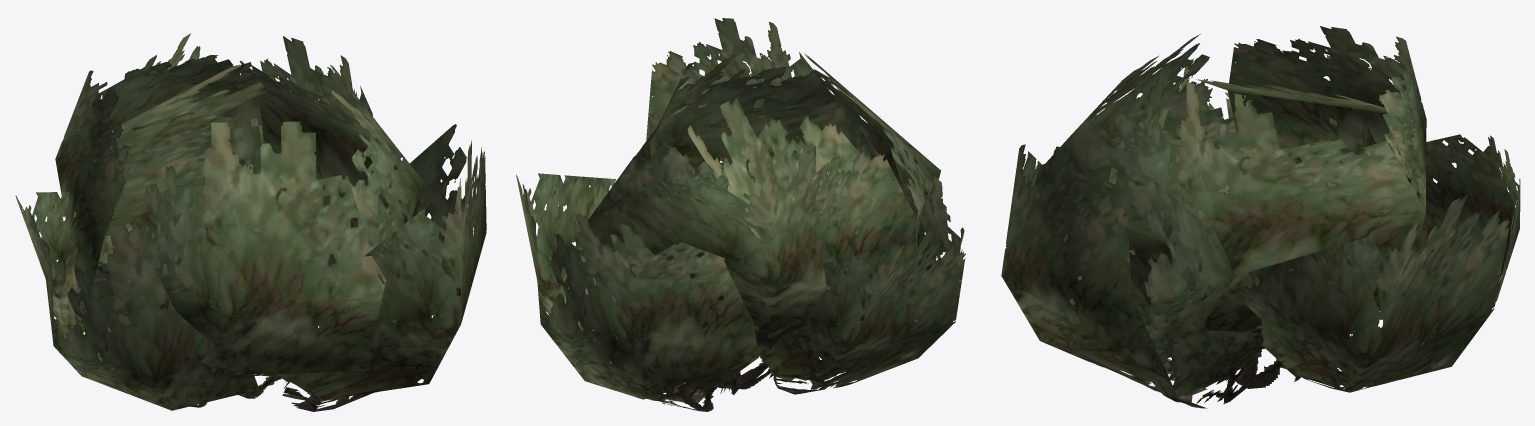
File: town_scrub02.fbx
The picture shows the model from 3 angles, left to right: view 1: azimuth 30°, elevation 25°; view 2: azimuth 150°, elevation 25°; view 3: azimuth 270°, elevation 25°; orthographic projection. The views are drawn at different scales.
Visible parts, largest first — view 1: bush_scrub01; view 2: bush_scrub01; view 3: bush_scrub01.
Part boxes in pixels (<box>): bush_scrub01: <box>15,33,486,411</box>; bush_scrub01: <box>516,18,965,411</box>; bush_scrub01: <box>1001,26,1520,408</box>.
Size of the model in its own units: 5.79 by 4.51 by 6.57.
